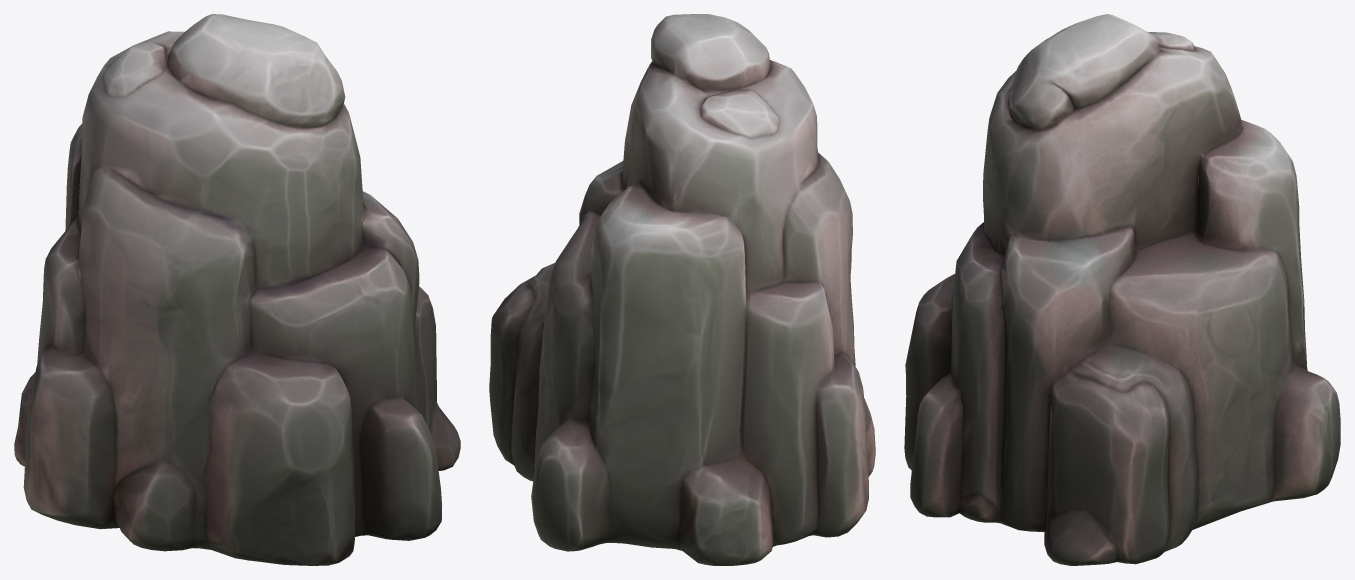
Rendered from rochedo_b.glb.
3 renders of one model, left to right at view 1: azimuth 30°, elevation 25°; view 2: azimuth 150°, elevation 25°; view 3: azimuth 270°, elevation 25°, orthographic. The views are drawn at different scales.
Parts seen in each view (by area): view 1: BIG_1_BiG_0; view 2: BIG_1_BiG_0; view 3: BIG_1_BiG_0.
Boxes of the visible parts, x1,y1,x2,y2 form: BIG_1_BiG_0: (14,14,460,565); BIG_1_BiG_0: (489,14,875,565); BIG_1_BiG_0: (904,14,1340,565).
Bounding box in the file's own units: 0.8728 × 1 × 0.8772.
Materials: 1 (1 with a texture image).
